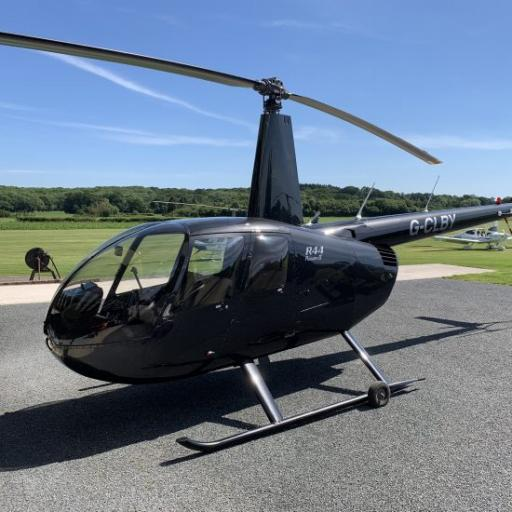helicopter: (4, 67, 512, 470)
